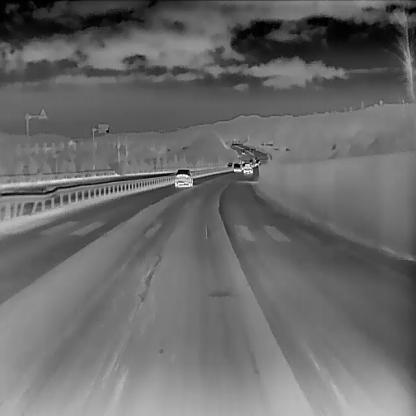car: (174, 167, 193, 187), (243, 162, 253, 173), (232, 162, 241, 172)
